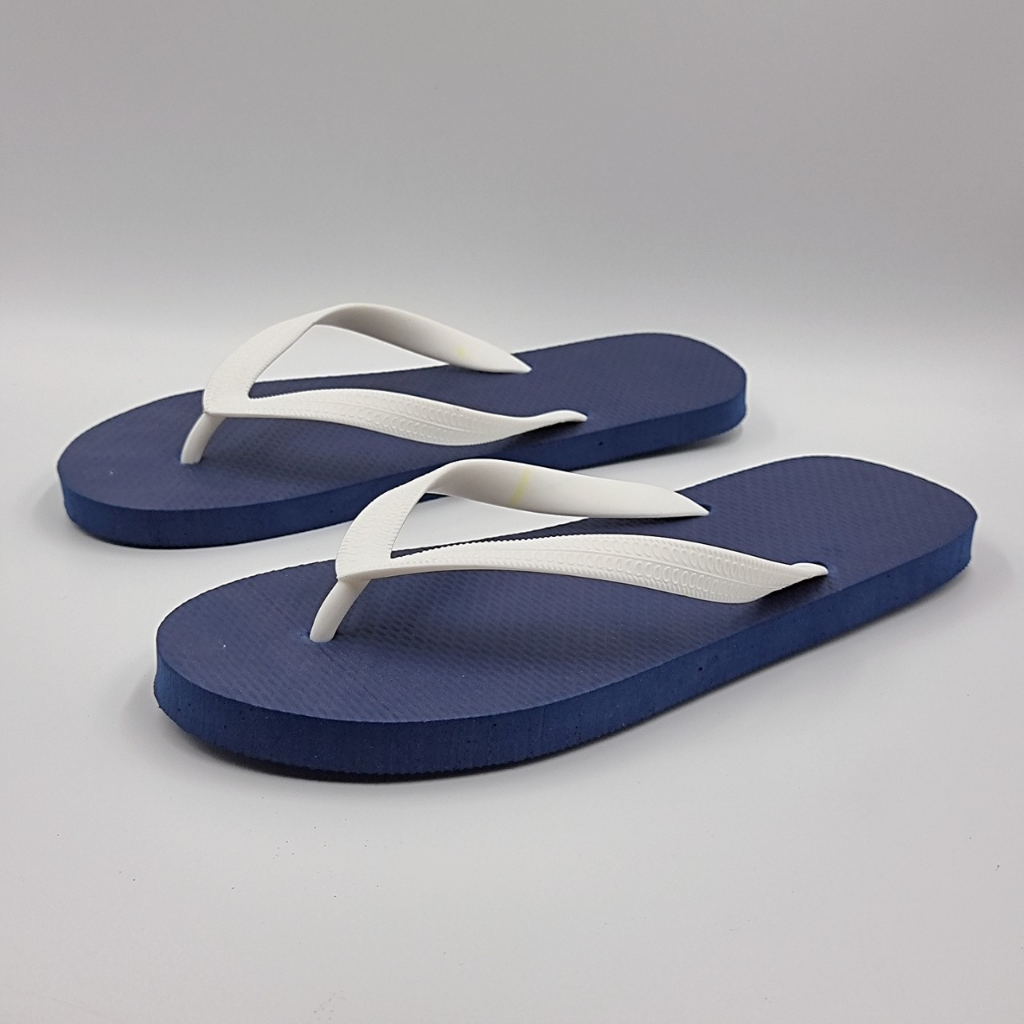flip_flops: (153, 456, 979, 786), (57, 301, 747, 553)
